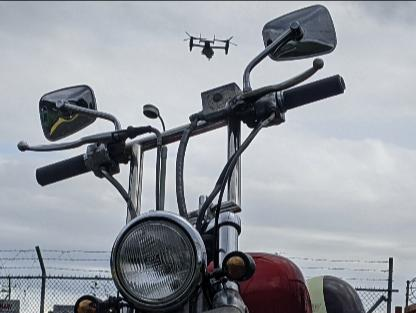Tornado: (184, 31, 238, 60)
